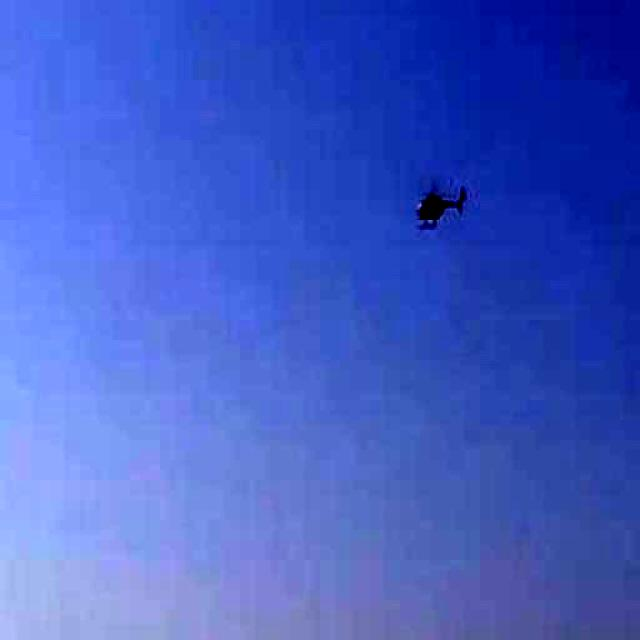drone: (388, 152, 486, 252)
